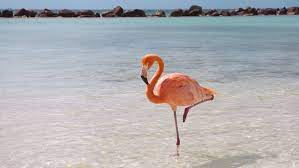Walking: (127, 45, 221, 159)
